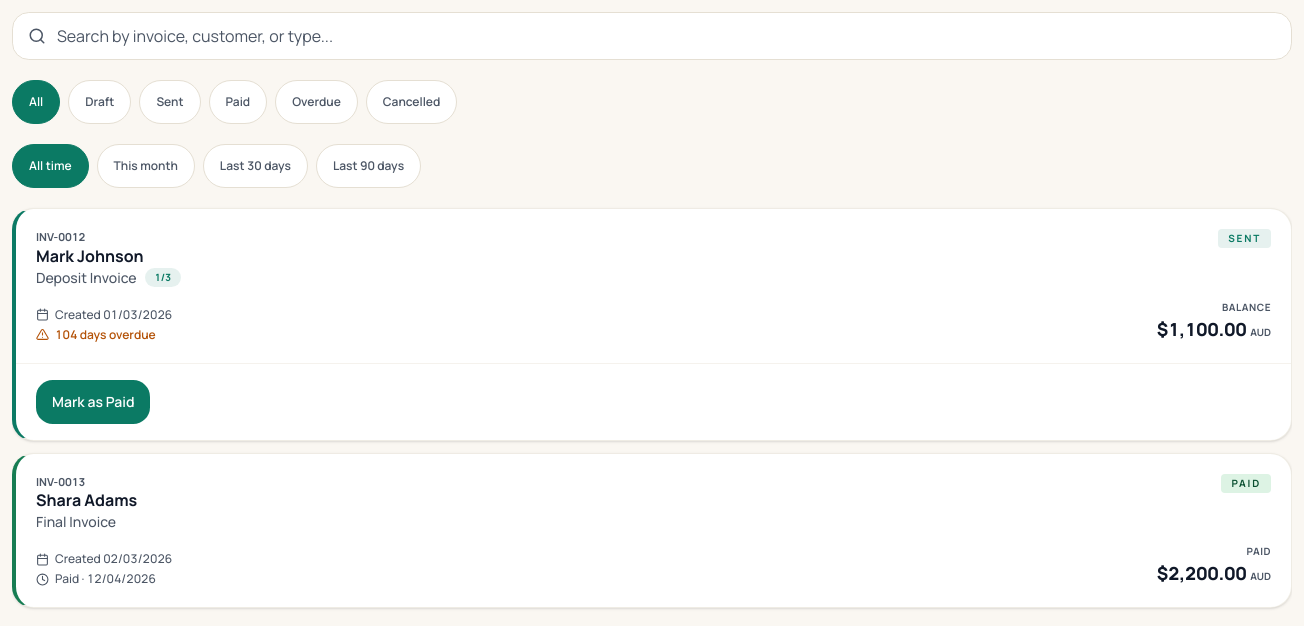
InvoiceTable › filters invoices by search query and status
The image size is (1304, 626).
Check: the text "1/3" is shown, box [145,268,181,287]
Type "Mark" into the search field with placeholder "Search by invoice, customer, or type..." at (652, 36), box [12,12,1292,60]
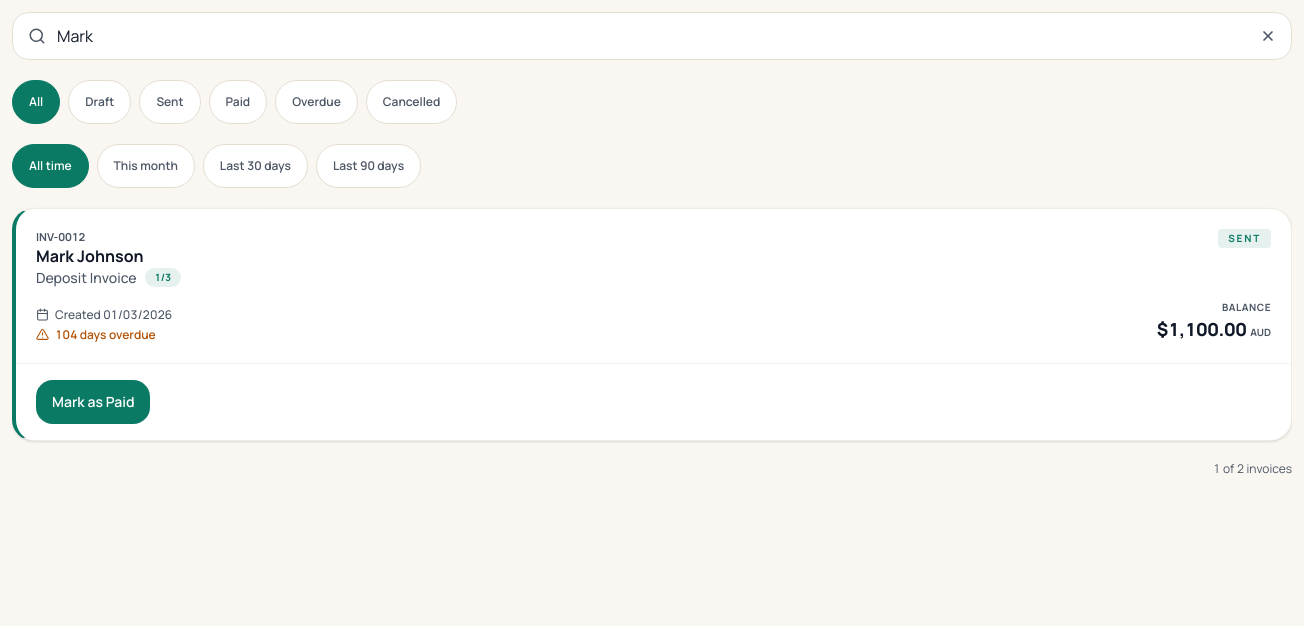
Check: the text "INV-0012" is shown, box [36,229,85,244]
Check: the link "INV-0013" is gone
# Status filter chips replace the old dropdown — click the 'Paid' chip
Click the button "Paid" at (238, 102), box [208,80,267,124]
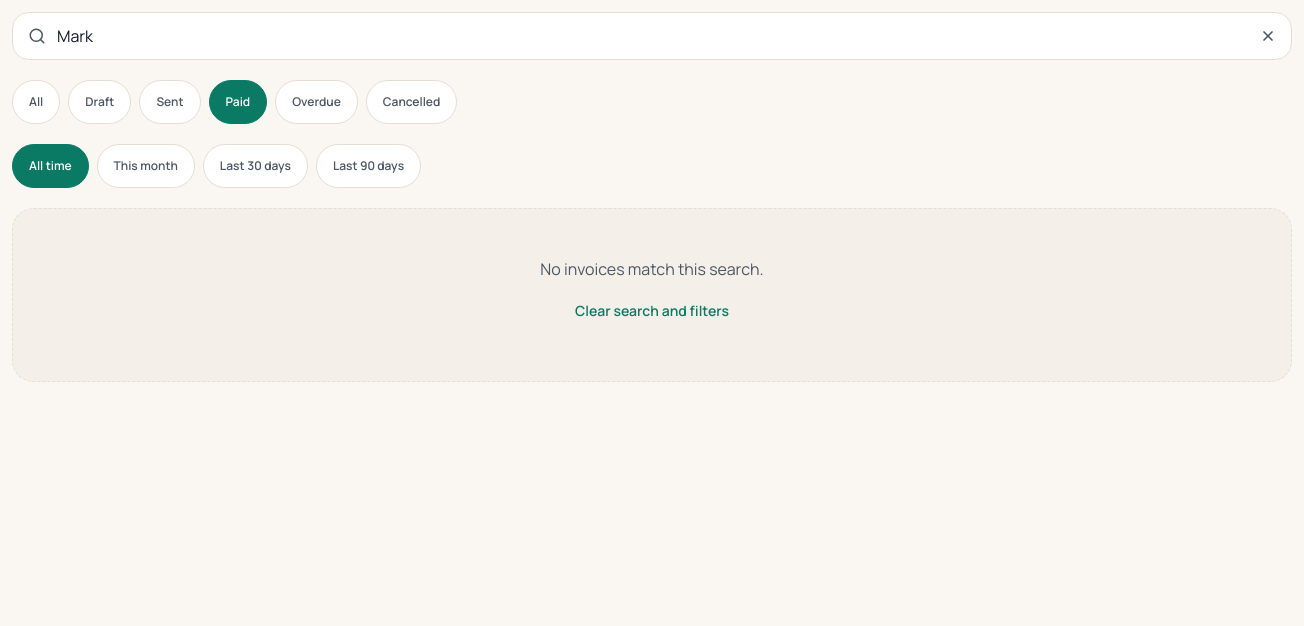
Check: the text "No invoices match this search." is shown, box [540,258,764,280]
Clear the search field with placeholder "Search by invoice, customer, or type..." at (652, 36), box [12,12,1292,60]
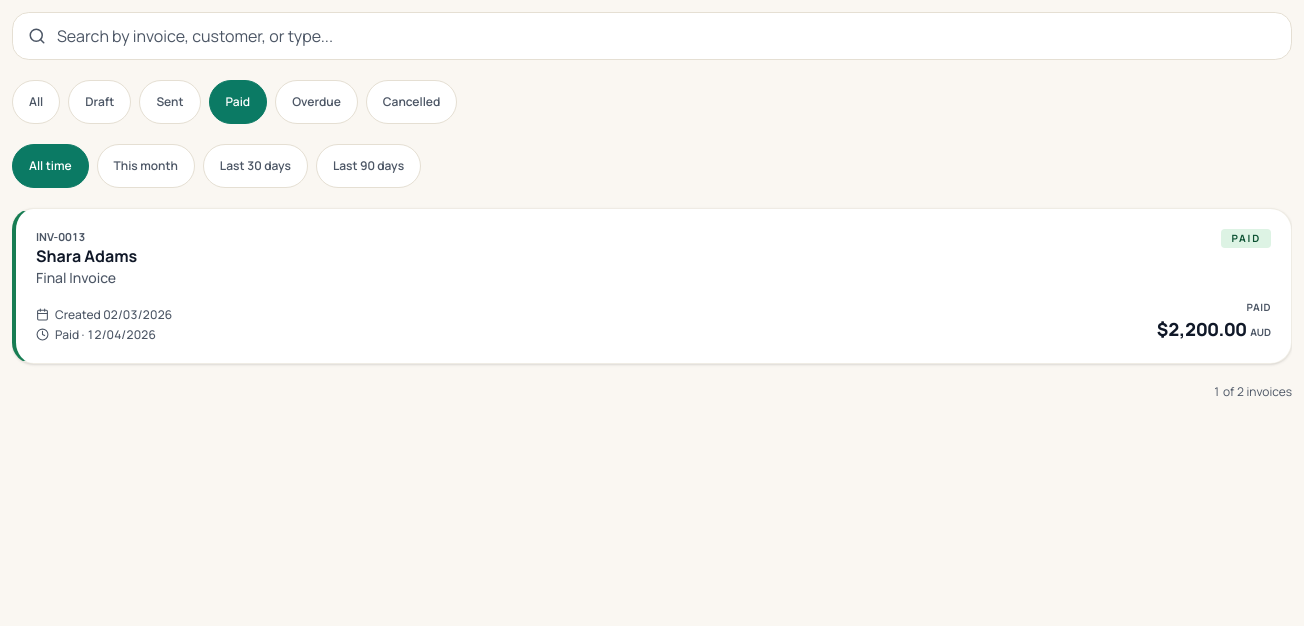
Check: the link "INV-0012" is not shown
Check: the text "INV-0013" is shown, box [36,229,85,244]
